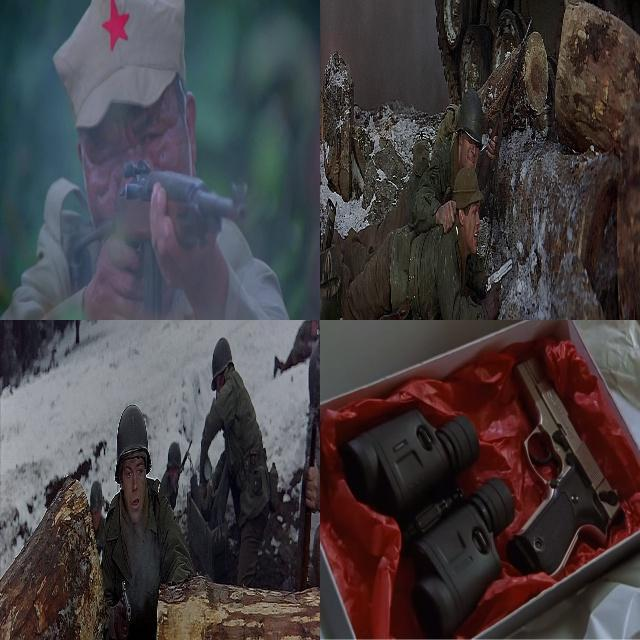gun-knife-thesis - v11 Yolov5 augmented: (68, 156, 256, 319), (501, 348, 623, 593), (475, 15, 531, 201), (479, 247, 517, 319), (112, 579, 133, 639)
